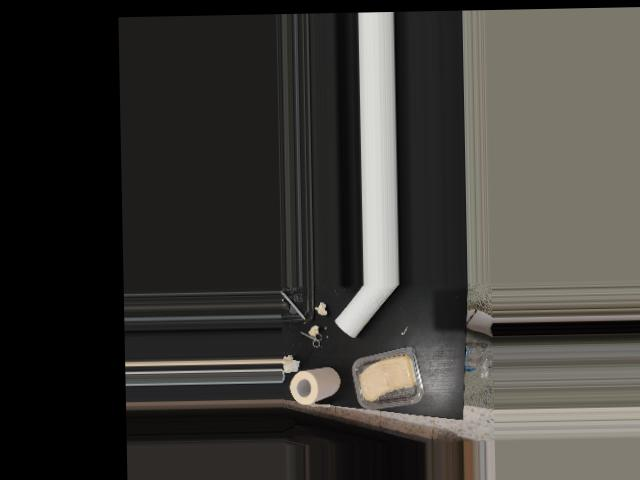cheese: (351, 348, 424, 405)
